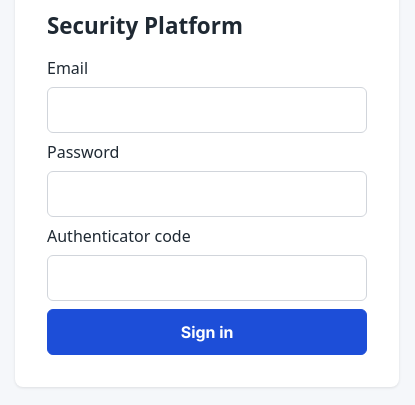
Test: LoginForm › walks a first login through TOTP enrolment
The image size is (415, 405).
Later steps or results of the test are not shown.
Type "a@example.test" into the field labelled "Email" at (207, 110), box [47,87,367,133]
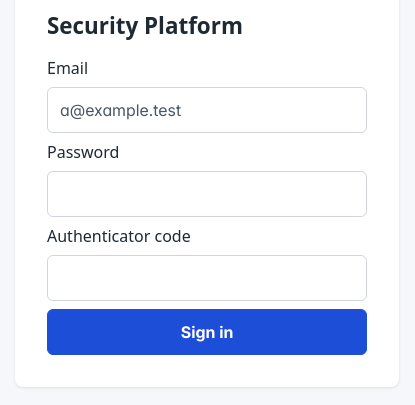
Type "long-enough-pass" into the password field labelled "Password" at (207, 194), box [47,171,367,217]
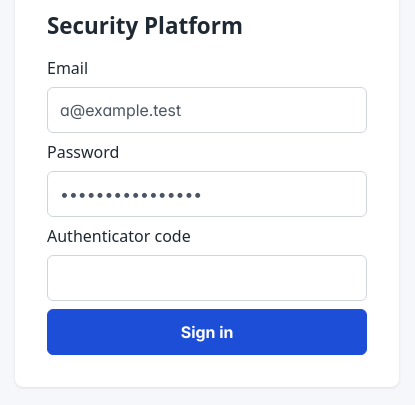
Click the button "Sign in" at (207, 332), box [47,309,367,355]
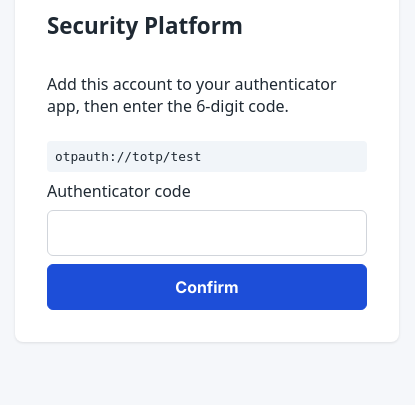
Now the text with test id "otpauth-uri" reads "otpauth://totp/test", box [55,149,201,164]
